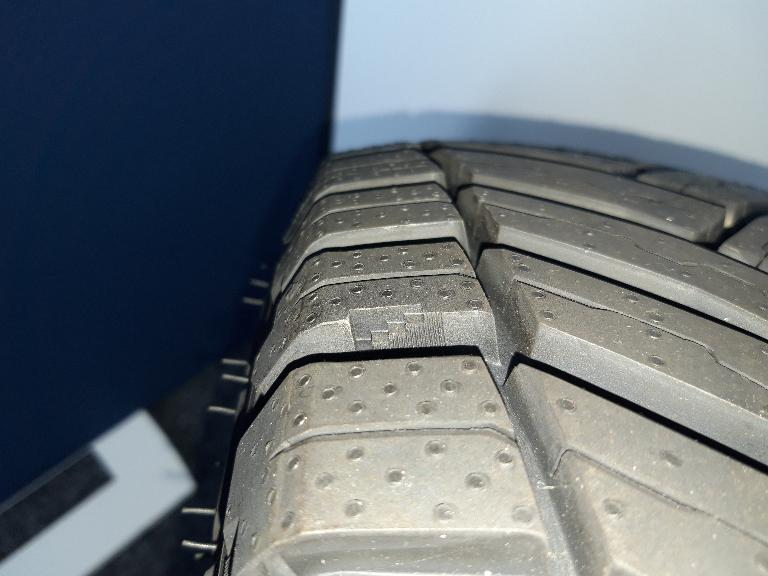temoin:100: (345, 302, 450, 362)
